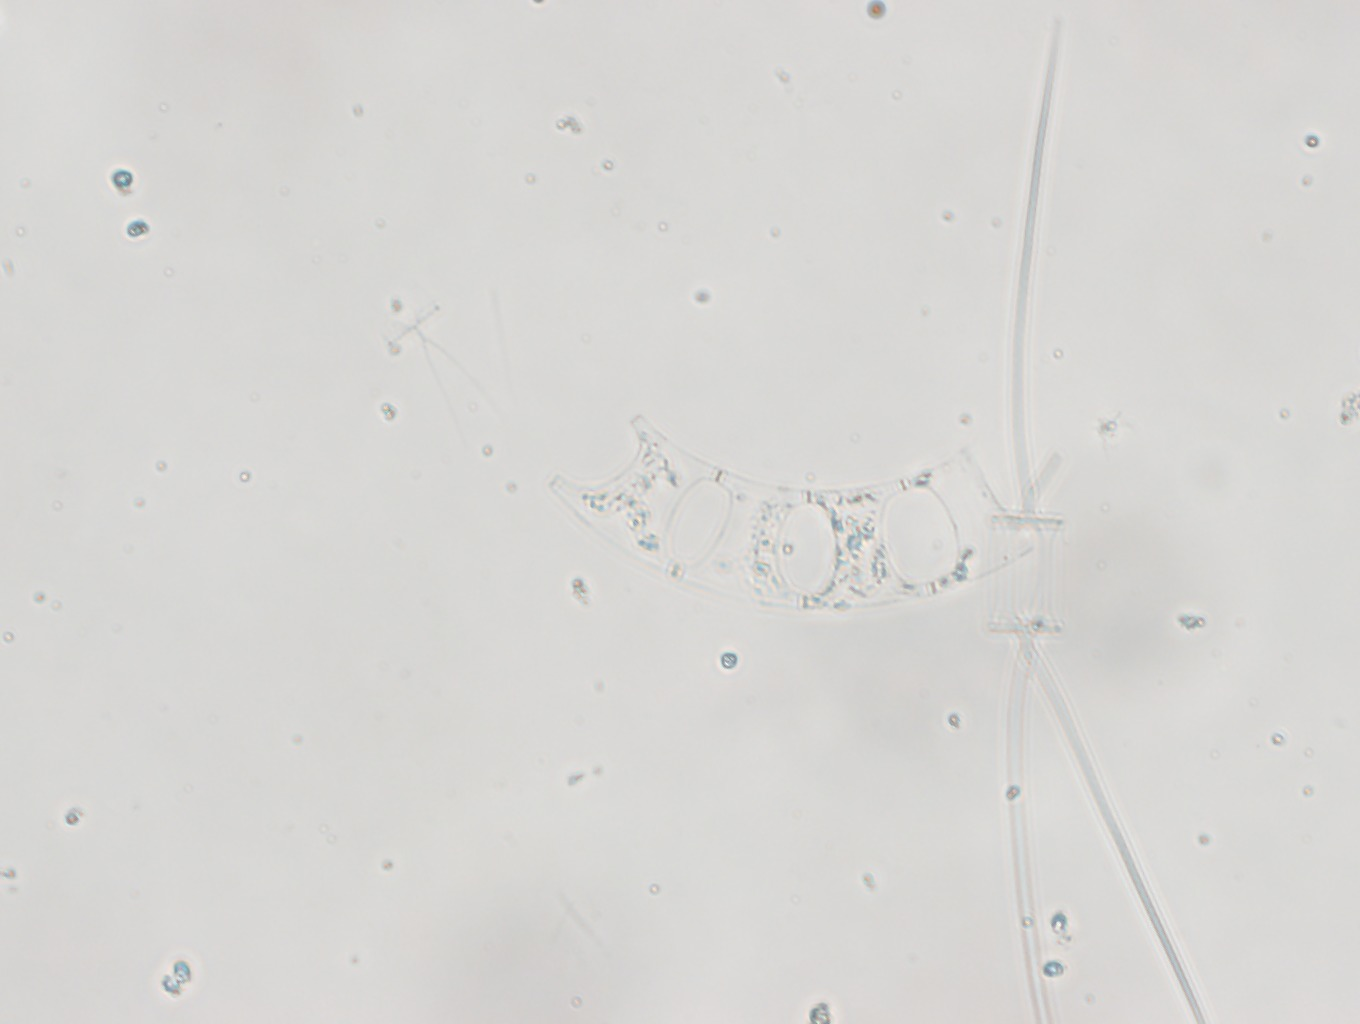chaetoceros: (987, 3, 1216, 1024)
eucampia: (525, 411, 1036, 612)
